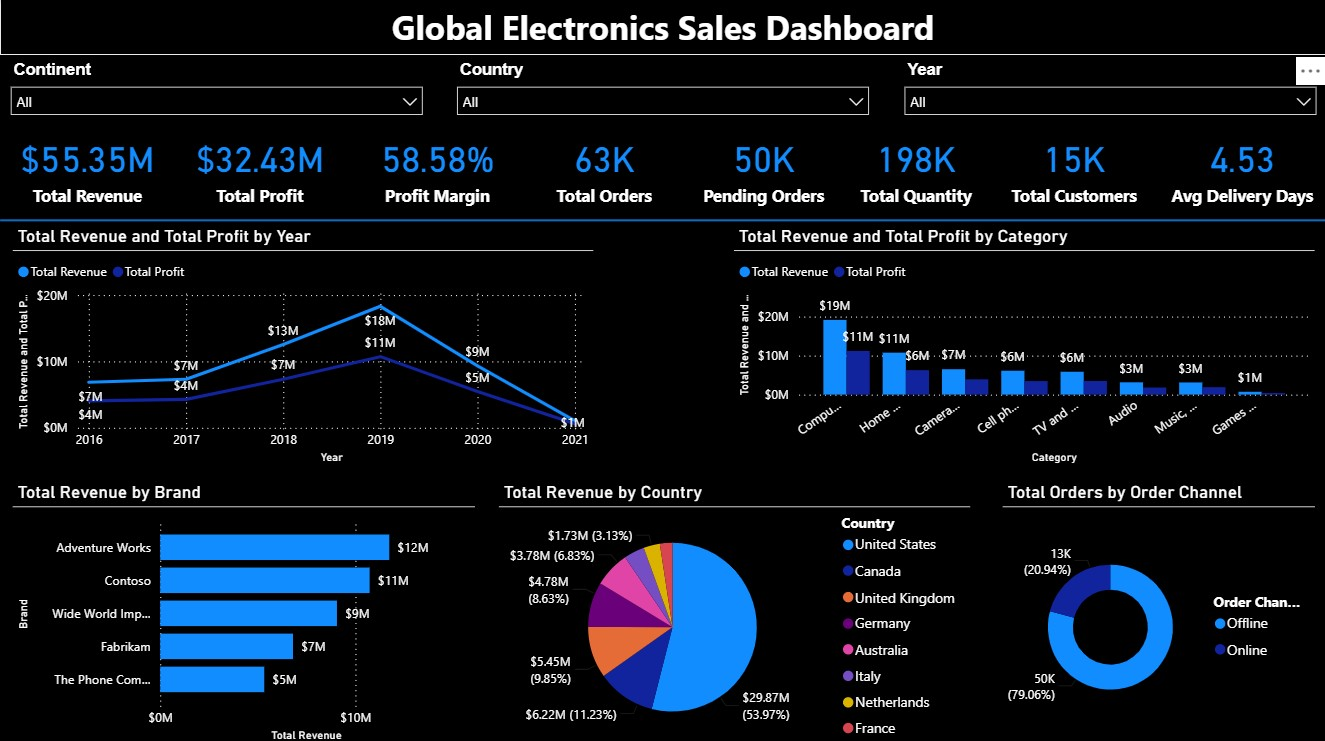

This screenshot's page, from the dashboard's own definition file:
{"tool":"powerbi","page":{"name":"Executive Summary","canvas":[1280,720],"ordinal":0},"visuals":[{"type":"card","fields":{"Values":["sales_clean.Total Revenue"]},"box":[0,117,168.9,91.7],"z":0},{"type":"card","fields":{"Values":["sales_clean.Total Profit"]},"box":[168.9,117,164.1,91.7],"z":1000},{"type":"card","fields":{"Values":["sales_clean.Pending Orders"]},"box":[663.5,117,147.2,91.7],"z":2000},{"type":"card","fields":{"Values":["sales_clean.Avg Delivery Days"]},"box":[1118.4,117,161.7,91.7],"z":3000},{"type":"lineChart","fields":{"Y":["sales_clean.Total Revenue","sales_clean.Total Profit"],"Category":["sales_clean.OrderDate.Variation.Date Hierarchy.Year","sales_clean.OrderDate.Variation.Date Hierarchy.Quarter","sales_clean.OrderDate.Variation.Date Hierarchy.Month","sales_clean.OrderDate.Variation.Date Hierarchy.Day"]},"box":[12.1,218.4,561,234],"z":4000},{"type":"clusteredColumnChart","fields":{"Category":["products_clean.Category"],"Y":["sales_clean.Total Revenue","sales_clean.Total Profit"]},"box":[708.2,218.4,561,234],"z":5000},{"type":"barChart","title":"Total Revenue by Brand","fields":{"Category":["products_clean.Brand"],"Y":["sales_clean.Total Revenue"]},"box":[12.1,465.7,446.4,254.6],"z":6000},{"type":"pieChart","fields":{"Category":["customers_clean (2).Country"],"Y":["sales_clean.Total Revenue"]},"box":[481.4,465.7,454.8,254.6],"z":7000},{"type":"slicer","fields":{"Values":["sales_clean.OrderDate.Variation.Date Hierarchy.Year"]},"box":[862.1,53.8,418.2,62.4],"z":8000},{"type":"slicer","fields":{"Values":["customers_clean (2).Country"]},"box":[430.4,53.8,418.2,62.4],"z":9000},{"type":"slicer","fields":{"Values":["customers_clean (2).Continent"]},"box":[0,53.8,418,62.4],"z":10000},{"type":"card","fields":{"Values":["sales_clean.Total Orders"]},"box":[503.1,117,160.5,91.7],"z":11000},{"type":"card","fields":{"Values":["customers_clean (2).Total Customers"]},"box":[957.9,117,158,91.7],"z":12000},{"type":"card","fields":{"Values":["Sum(sales_clean.Quantity)"]},"box":[810.7,117,147.2,91.7],"z":13000},{"type":"textbox","box":[0,0,1280,54.3],"z":14000},{"type":"shape","box":[0,209.1,1280.3,9.8],"z":15000},{"type":"donutChart","fields":{"Category":["sales_clean.Order Channel"],"Y":["sales_clean.Total Orders"]},"box":[967.6,465.7,301.6,254.6],"z":16000},{"type":"card","fields":{"Values":["sales_clean.Profit Margin"]},"box":[341.4,117,161.7,91.7],"z":17000}]}

Visuals, with their boxes in screenshot pixels (x1, y1, x2, y2), scaled from the page's 1280x720 canvas onto the 1325x741 screenshot:
card - sales_clean.Total Revenue: [0, 120, 175, 215]
card - sales_clean.Total Profit: [175, 120, 345, 215]
card - sales_clean.Pending Orders: [687, 120, 839, 215]
card - sales_clean.Avg Delivery Days: [1158, 120, 1324, 215]
lineChart - sales_clean.Total Revenue x sales_clean.Total Profit: [13, 225, 593, 466]
clusteredColumnChart - products_clean.Category x sales_clean.Total Revenue: [733, 225, 1314, 466]
"Total Revenue by Brand" barChart: [13, 479, 475, 740]
pieChart - customers_clean (2).Country x sales_clean.Total Revenue: [498, 479, 969, 740]
slicer - sales_clean.OrderDate.Variation.Date Hierarchy.Year: [892, 55, 1324, 120]
slicer - customers_clean (2).Country: [446, 55, 878, 120]
slicer - customers_clean (2).Continent: [0, 55, 433, 120]
card - sales_clean.Total Orders: [521, 120, 687, 215]
card - customers_clean (2).Total Customers: [992, 120, 1155, 215]
card - Sum(sales_clean.Quantity): [839, 120, 992, 215]
textbox: [0, 0, 1324, 56]
shape: [0, 215, 1324, 225]
donutChart - sales_clean.Order Channel x sales_clean.Total Orders: [1002, 479, 1314, 740]
card - sales_clean.Profit Margin: [353, 120, 521, 215]
